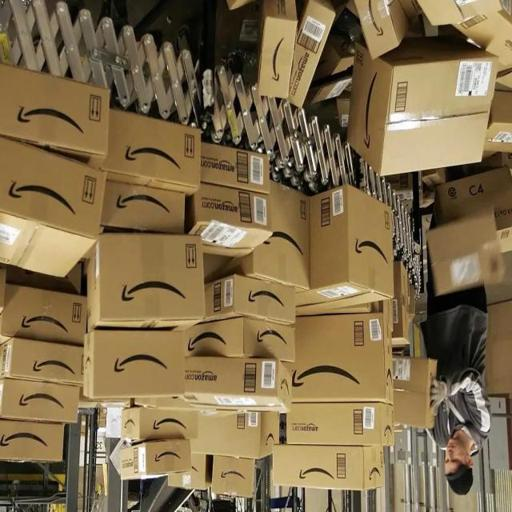Amazon: (353, 41, 494, 171), (0, 135, 101, 281), (0, 63, 108, 165), (253, 177, 343, 292), (88, 236, 208, 322), (313, 189, 397, 307), (286, 312, 386, 401), (107, 106, 198, 193), (86, 329, 184, 398), (182, 359, 294, 415), (439, 169, 512, 248), (272, 443, 389, 491), (0, 284, 85, 342), (188, 191, 272, 249), (95, 181, 186, 232), (288, 402, 393, 446), (206, 278, 296, 326), (190, 321, 293, 362), (0, 338, 83, 388), (298, 4, 338, 107), (0, 376, 80, 425), (195, 409, 280, 454), (194, 145, 270, 192), (1, 418, 69, 466), (119, 440, 192, 480), (348, 0, 402, 53), (121, 407, 199, 441), (266, 15, 291, 96), (210, 457, 253, 495), (170, 452, 208, 490)
